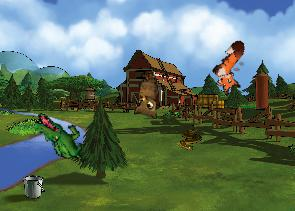crocodile: (26, 111, 94, 164)
fox: (203, 37, 262, 99)
owl: (127, 71, 162, 121)
